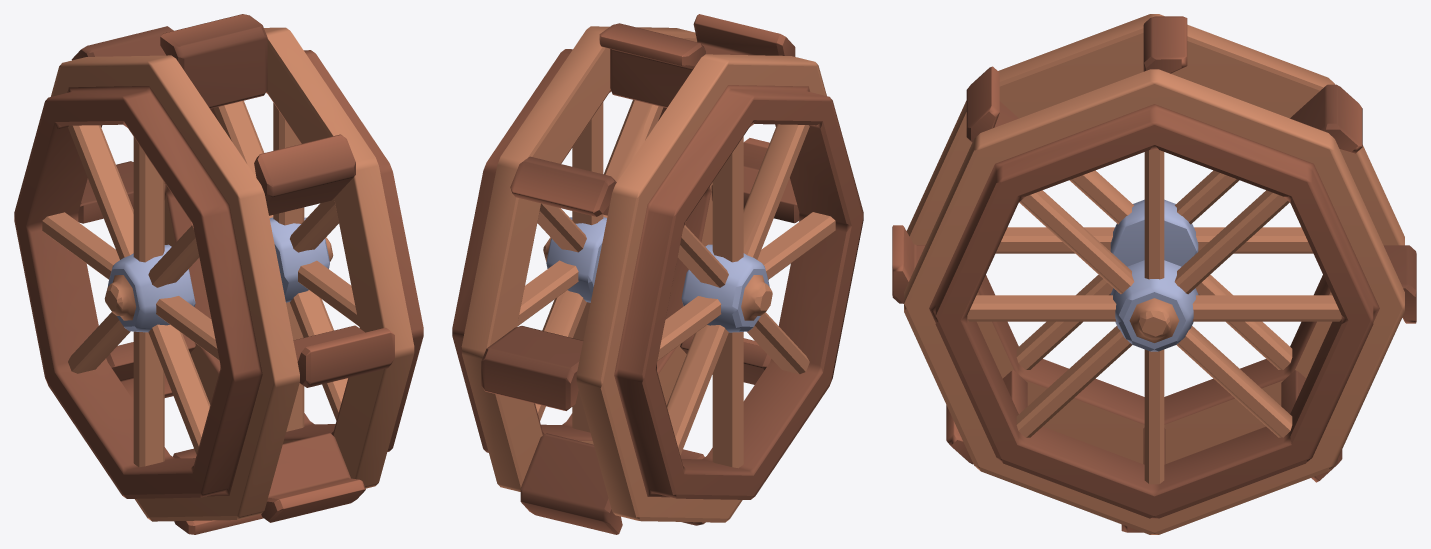
The model's file is kenney-fantasy-town__watermill.glb.
The picture shows the model from 3 angles, left to right: view 1: azimuth 30°, elevation 25°; view 2: azimuth 150°, elevation 25°; view 3: azimuth 270°, elevation 25°; orthographic projection.
Parts seen in each view (by area): view 1: watermill; view 2: watermill; view 3: watermill.
Boxes of the visible parts, x1,y1,x2,y2 form: watermill: (14,14,423,534); watermill: (452,14,863,534); watermill: (892,14,1416,534).
Bounding box in the file's own units: 0.85 × 1.8 × 1.8.
1 material, 1 textured.
